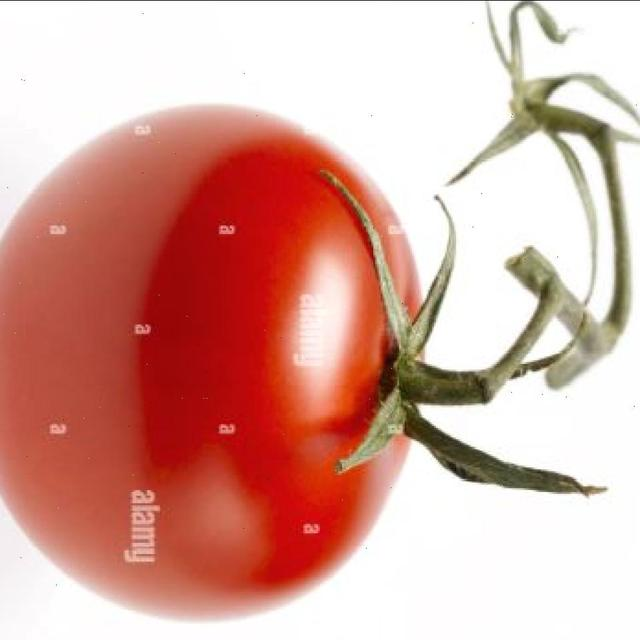Healthy Fruit: (7, 70, 306, 427)
